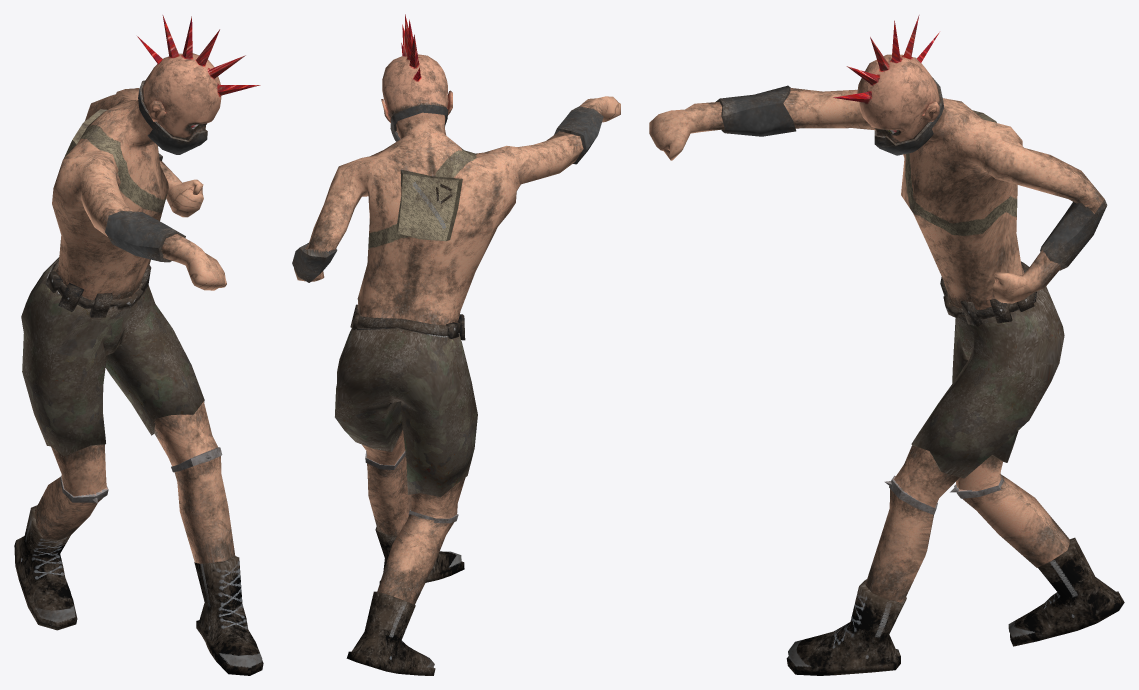
Rendered from Anim_ataque_d2_npc2.0020.obj.
3 renders of one model, left to right at view 1: azimuth 30°, elevation 25°; view 2: azimuth 150°, elevation 25°; view 3: azimuth 270°, elevation 25°, orthographic. The views are drawn at different scales.
Visible parts, largest first — view 1: polySurface1; view 2: polySurface1; view 3: polySurface1.
Part boxes in pixels (<box>): polySurface1: <box>14,15,263,675</box>; polySurface1: <box>292,14,620,675</box>; polySurface1: <box>649,15,1124,675</box>.
Bounding box in the file's own units: 3.14 × 9.51 × 6.23.
Materials: 2 (2 with a texture image).
